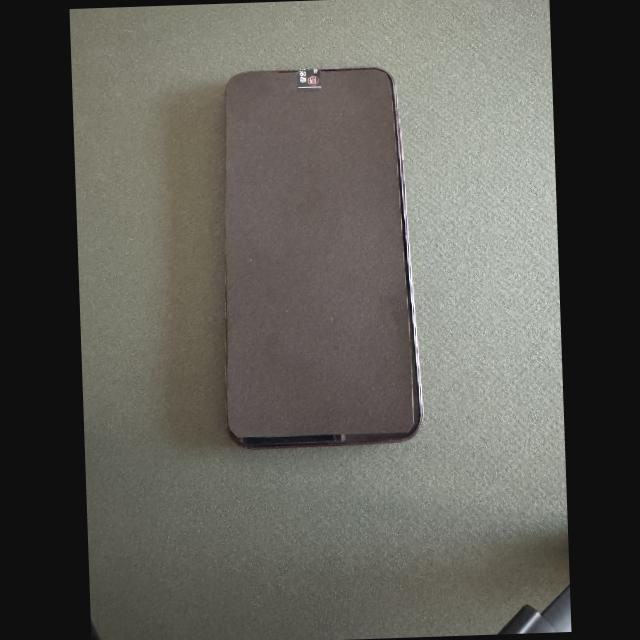phone: (224, 64, 422, 449)
sticker: (297, 68, 321, 91)
